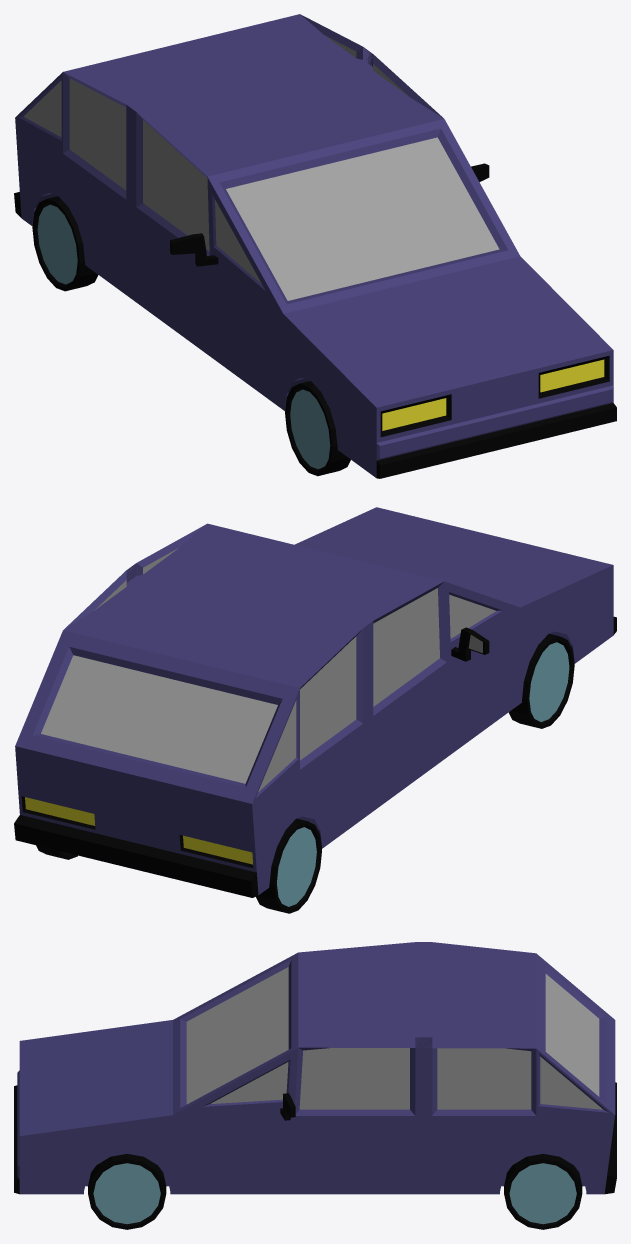
File: Hatchback car 1.fbx
3 views of the same model, one above another, from view 1: azimuth 30°, elevation 25°; view 2: azimuth 150°, elevation 25°; view 3: azimuth 270°, elevation 25° (orthographic). The views are drawn at different scales.
Parts seen in each view (by area): view 1: Hatchback Car Body.001, Wheel RR.007, Wheel FR.008; view 2: Hatchback Car Body.001, Wheel FR.008, Wheel RR.007; view 3: Hatchback Car Body.001, Wheel RL.007, Wheel FL.008.
Part boxes in pixels (box(x1,y1,x2,y2)): Hatchback Car Body.001: box(14, 14, 616, 478); Wheel RR.007: box(32, 196, 98, 291); Wheel FR.008: box(285, 381, 350, 476); Hatchback Car Body.001: box(14, 507, 616, 897); Wheel FR.008: box(508, 633, 574, 728); Wheel RR.007: box(256, 818, 321, 913); Hatchback Car Body.001: box(14, 942, 616, 1194); Wheel RL.007: box(504, 1153, 582, 1229); Wheel FL.008: box(88, 1154, 166, 1229).
Bounding box in the file's own units: 1.72 × 1.2 × 3.43.
